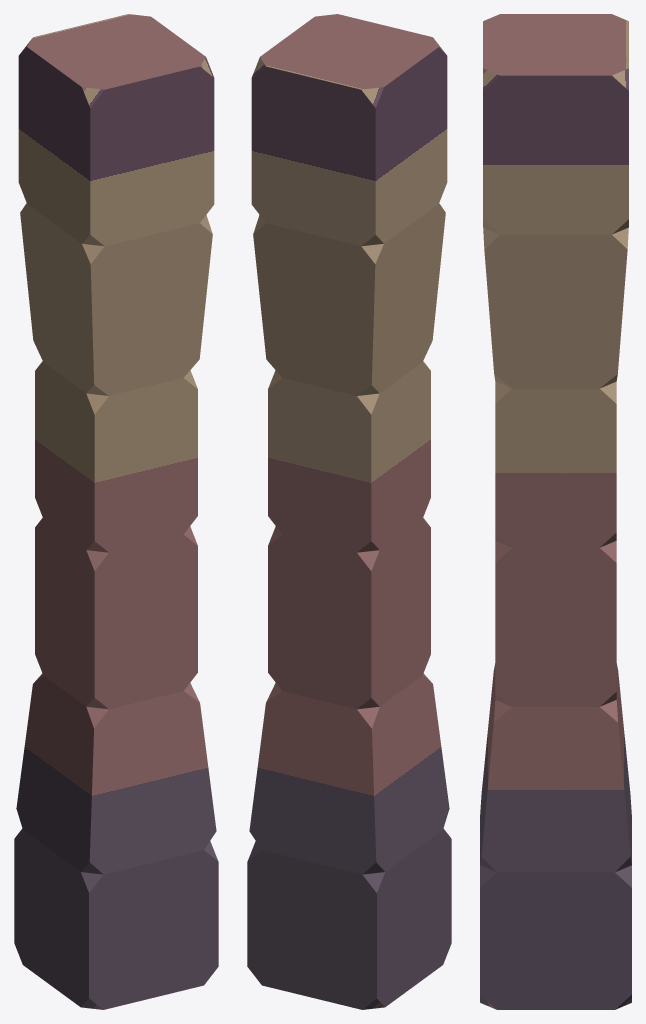
File: Pillar 1.002.fbx
3 renders of one model, left to right at view 1: azimuth 30°, elevation 25°; view 2: azimuth 150°, elevation 25°; view 3: azimuth 270°, elevation 25°, orthographic.
Visible parts, largest first — view 1: Pillar 1.002; view 2: Pillar 1.002; view 3: Pillar 1.002.
Part boxes in pixels (x1,y1,x2,y2): Pillar 1.002: [14, 14, 218, 1009]; Pillar 1.002: [247, 14, 451, 1009]; Pillar 1.002: [480, 14, 631, 1009].
Bounding box in the file's own units: 86.44 × 586 × 86.44.
